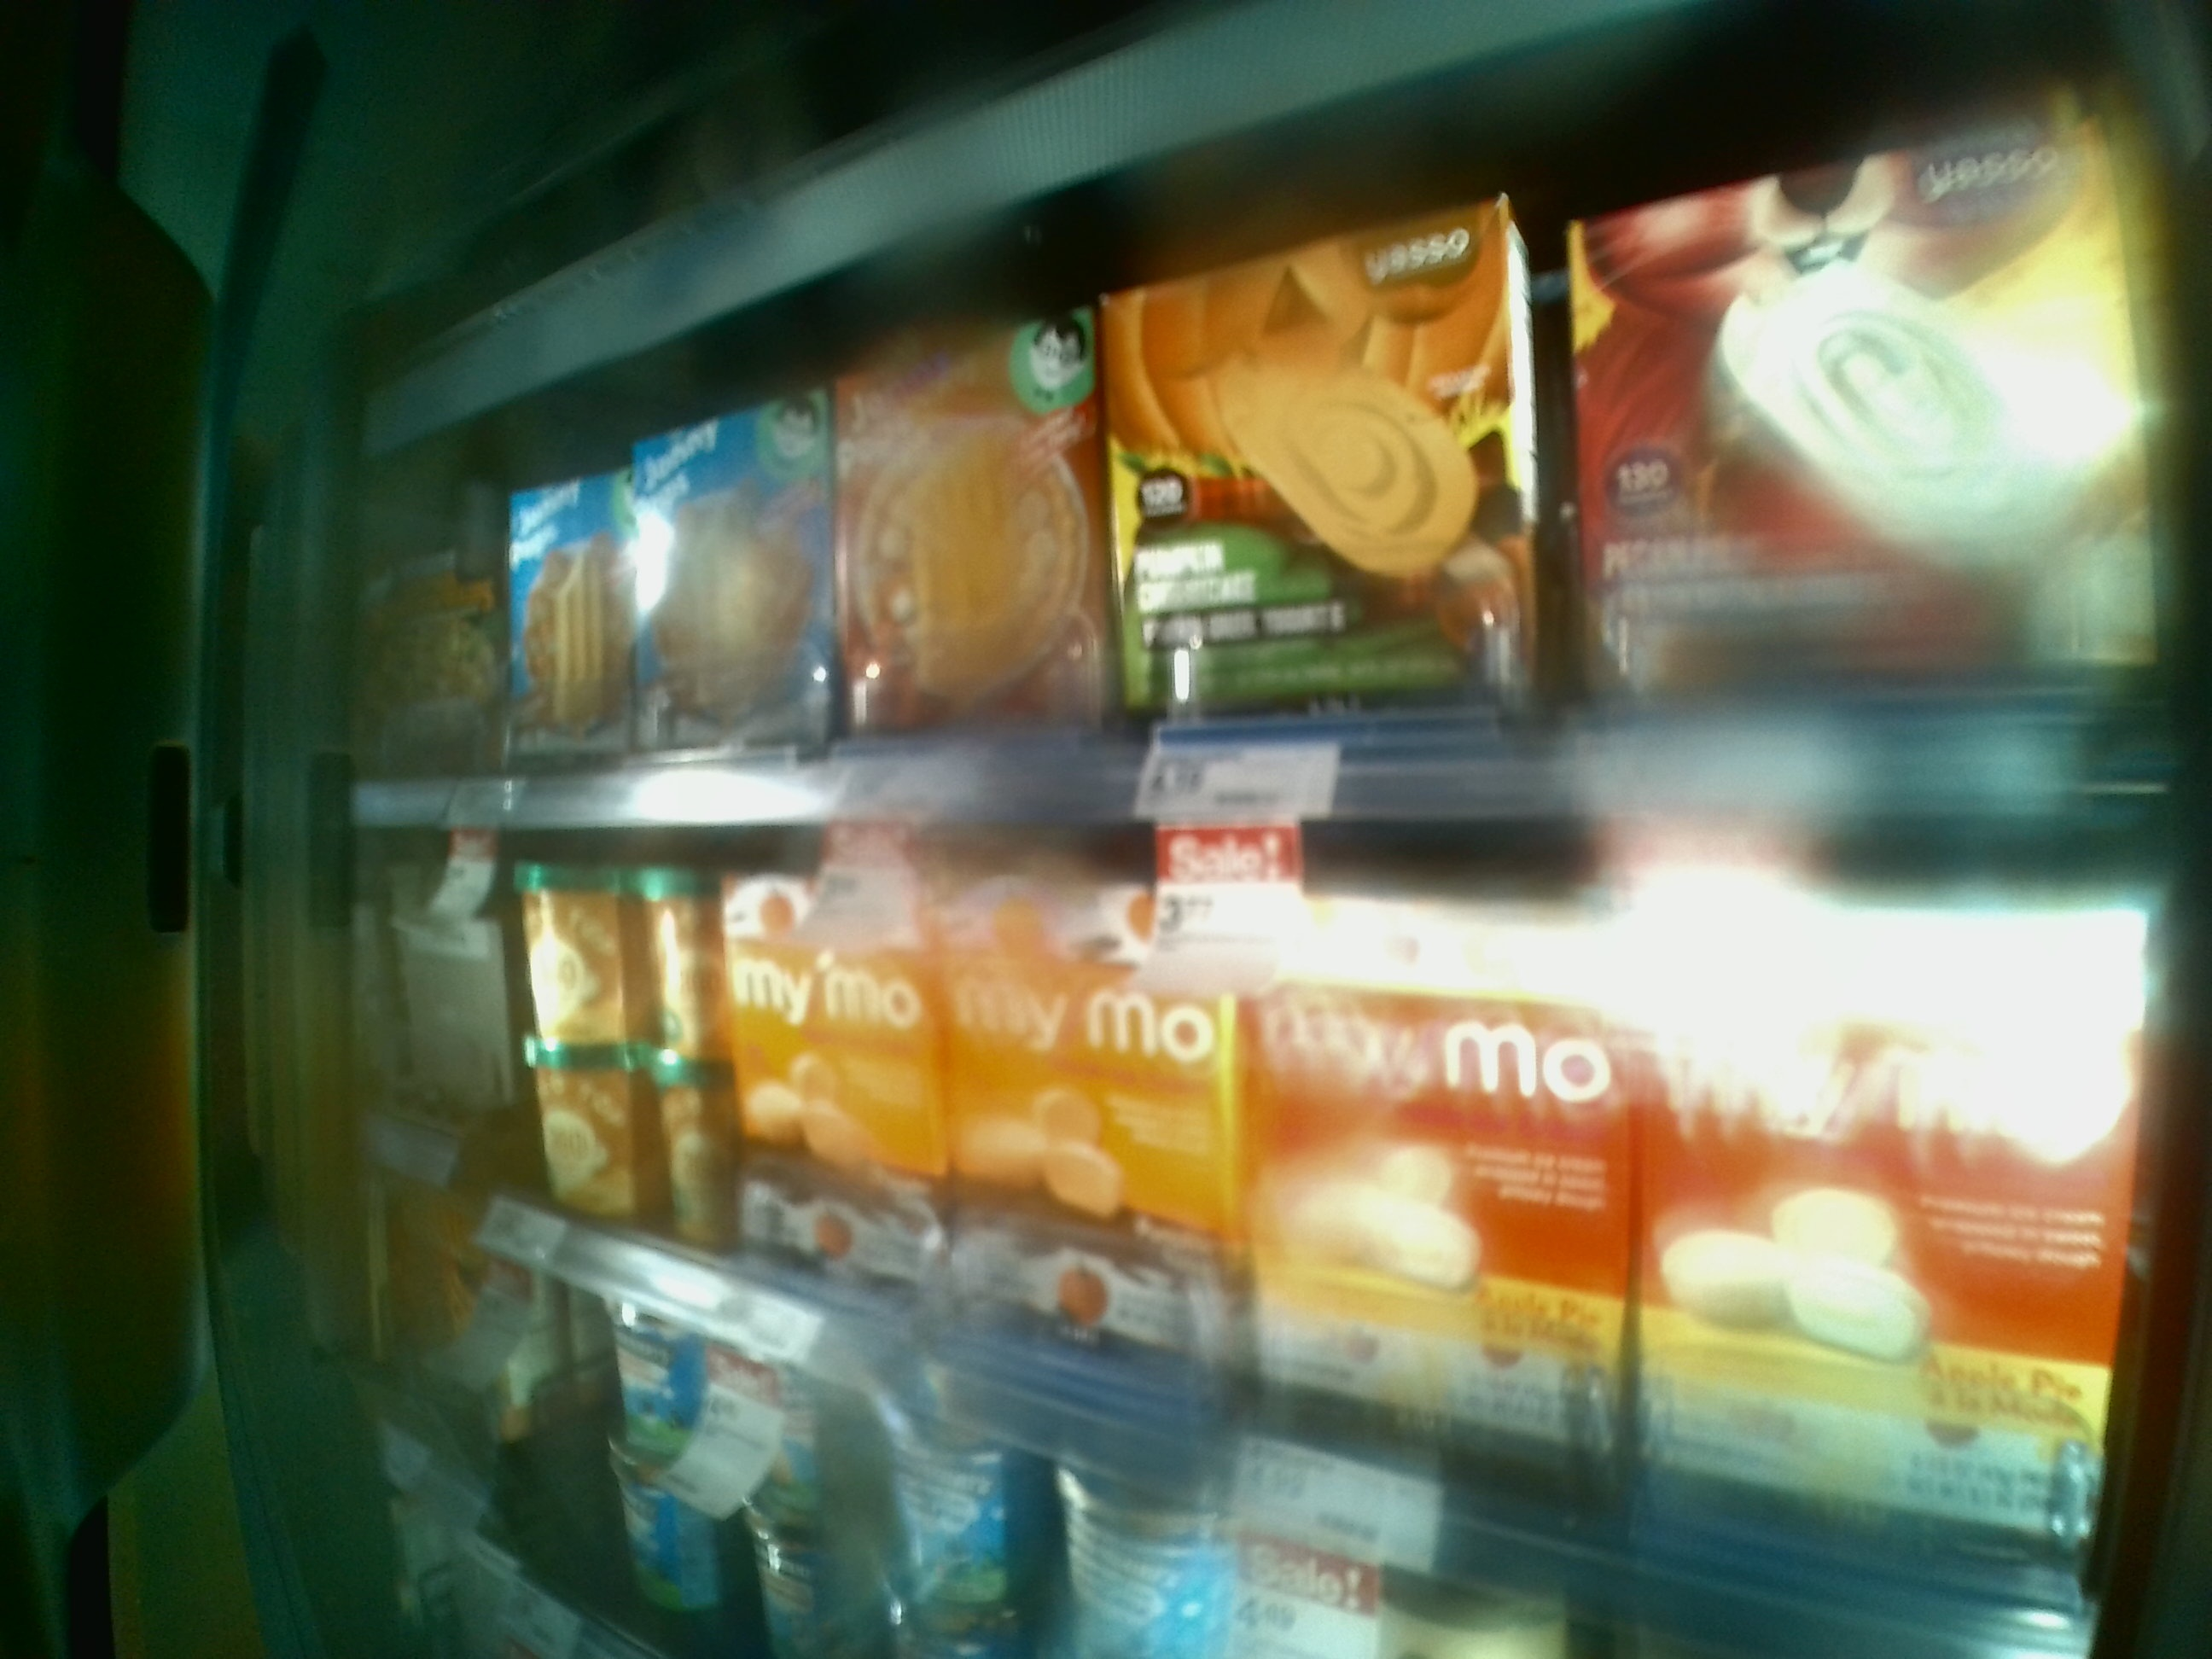shelf: (361, 788, 2099, 1626), (409, 129, 2156, 826)
